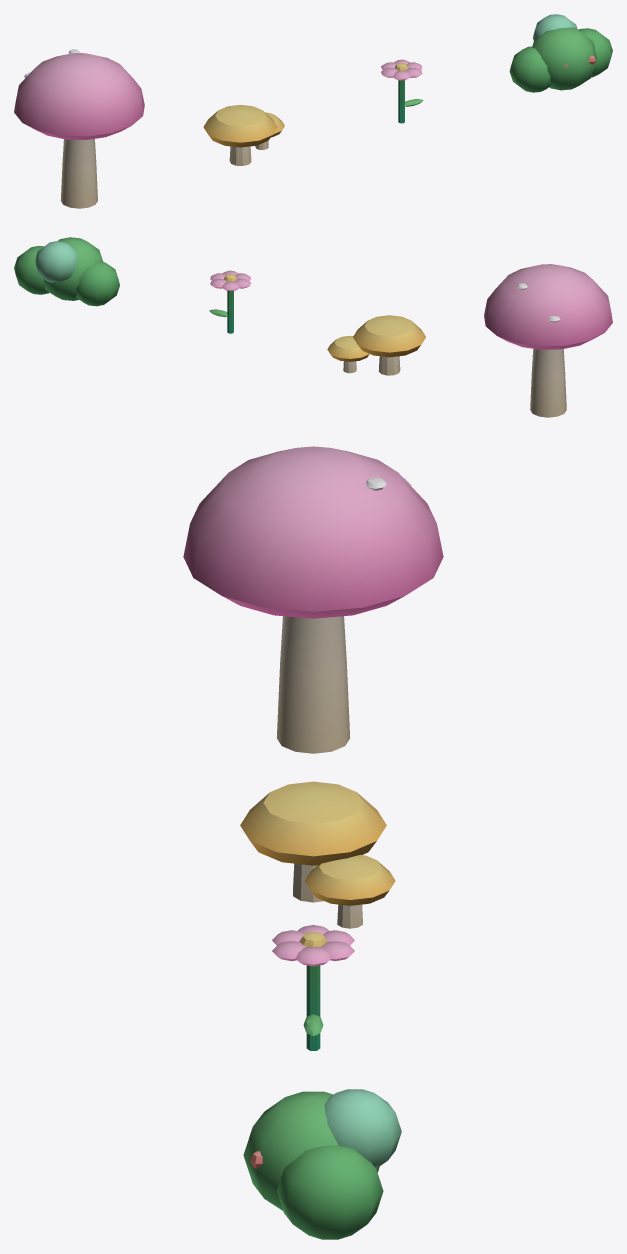
The model's file is prop_set_meadow.glb.
The picture shows the model from 3 angles, top to bottom: view 1: azimuth 30°, elevation 25°; view 2: azimuth 150°, elevation 25°; view 3: azimuth 270°, elevation 25°; orthographic projection. The views are drawn at different scales.
Visible parts, largest first — view 1: MushroomTall, CloverBush, MushroomPair, Flower; view 2: MushroomTall, CloverBush, MushroomPair, Flower; view 3: MushroomTall, CloverBush, MushroomPair, Flower.
Part boxes in pixels (<box>): MushroomTall: <box>14,49,144,208</box>; CloverBush: <box>509,14,612,92</box>; MushroomPair: <box>203,105,284,165</box>; Flower: <box>381,59,423,123</box>; MushroomTall: <box>484,264,612,417</box>; CloverBush: <box>14,237,119,306</box>; MushroomPair: <box>327,315,425,375</box>; Flower: <box>209,270,250,333</box>; MushroomTall: <box>183,446,443,753</box>; CloverBush: <box>243,1089,401,1239</box>; MushroomPair: <box>240,781,395,928</box>; Flower: <box>272,925,354,1050</box>.
Size of the model in its own units: 8.06 by 1.84 by 1.56.
